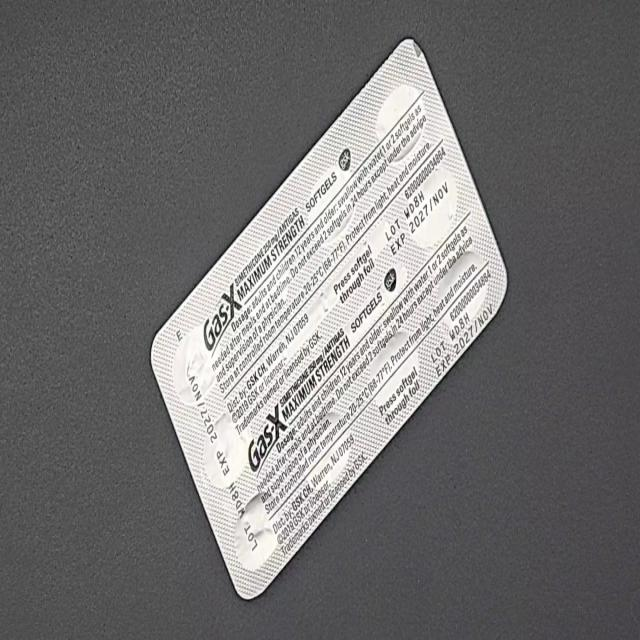no defect: (12, 15, 39, 64)
